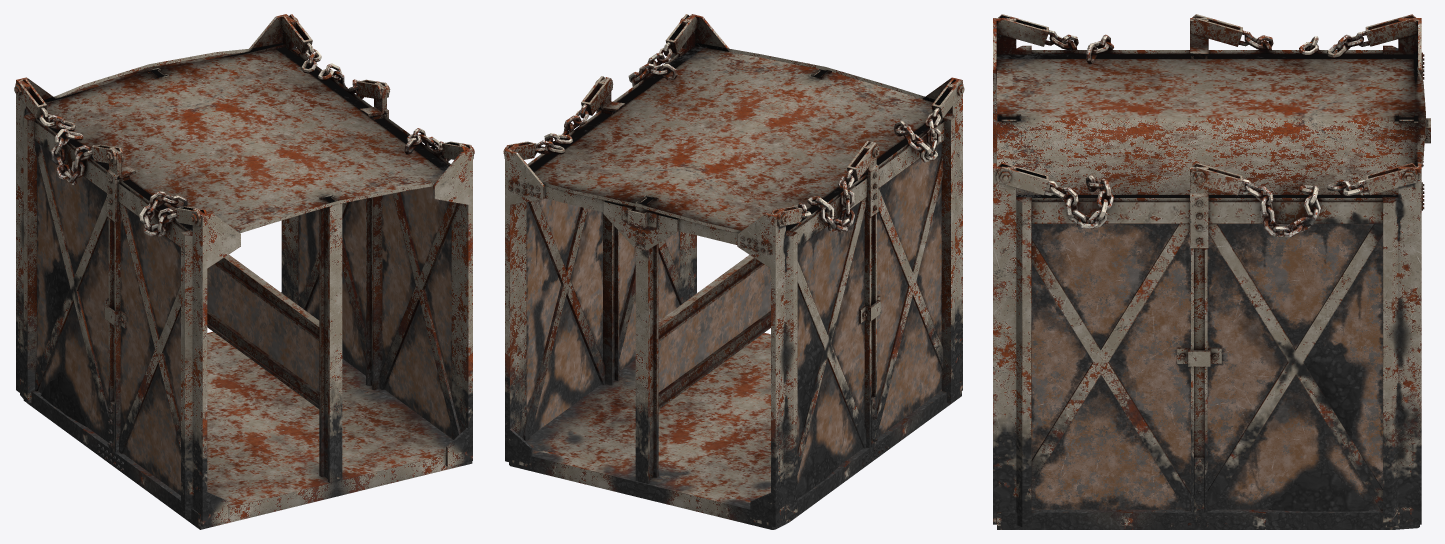
Rendered from Sketchfab_2022_12_03_23_26_14.fbx.
3 renders of one model, left to right at view 1: azimuth 30°, elevation 25°; view 2: azimuth 150°, elevation 25°; view 3: azimuth 270°, elevation 25°, orthographic. The views are drawn at different scales.
Visible parts, largest first — view 1: Mine_cage; view 2: Mine_cage; view 3: Mine_cage.
Part boxes in pixels (x1=…): Mine_cage: x1=14, y1=14, x2=474, y2=529; Mine_cage: x1=503, y1=14, x2=964, y2=529; Mine_cage: x1=993, y1=14, x2=1430, y2=529.
Size of the model in its own units: 285 by 286 by 313.
